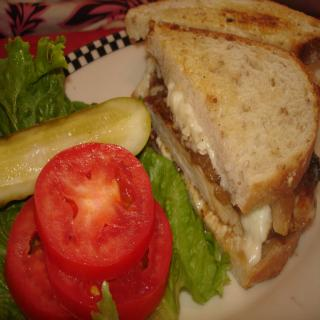tomato: (46, 198, 172, 320), (5, 198, 80, 320), (61, 308, 84, 320)
